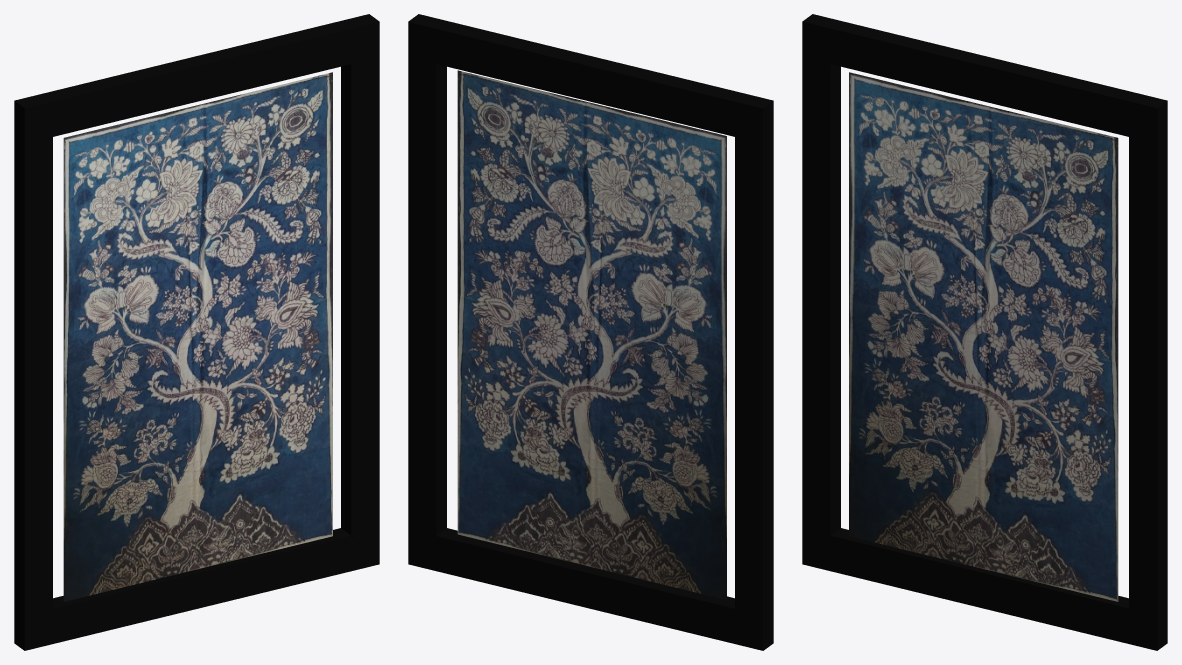
The picture shows the model from 3 angles, left to right: view 1: azimuth 30°, elevation 25°; view 2: azimuth 150°, elevation 25°; view 3: azimuth 330°, elevation 25°; orthographic projection.
Parts seen in each view (by area): view 1: 6896487104701, frame; view 2: 6896487104701, frame; view 3: 6896487104701, frame.
Boxes of the visible parts, bbox=[...] form: 6896487104701: bbox=[63, 72, 332, 601]; frame: bbox=[14, 14, 379, 650]; 6896487104701: bbox=[457, 70, 726, 599]; frame: bbox=[408, 14, 773, 650]; 6896487104701: bbox=[849, 72, 1118, 601]; frame: bbox=[802, 14, 1167, 650].
Size of the model in its own units: 0.7929 by 1.16 by 0.04.
2 materials, 1 textured.
